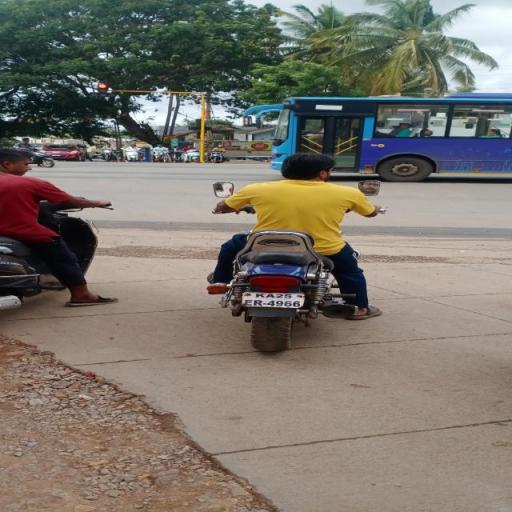bike: (196, 148, 388, 360)
numberplate: (243, 292, 302, 310)
withouthelmet: (283, 152, 333, 182)
